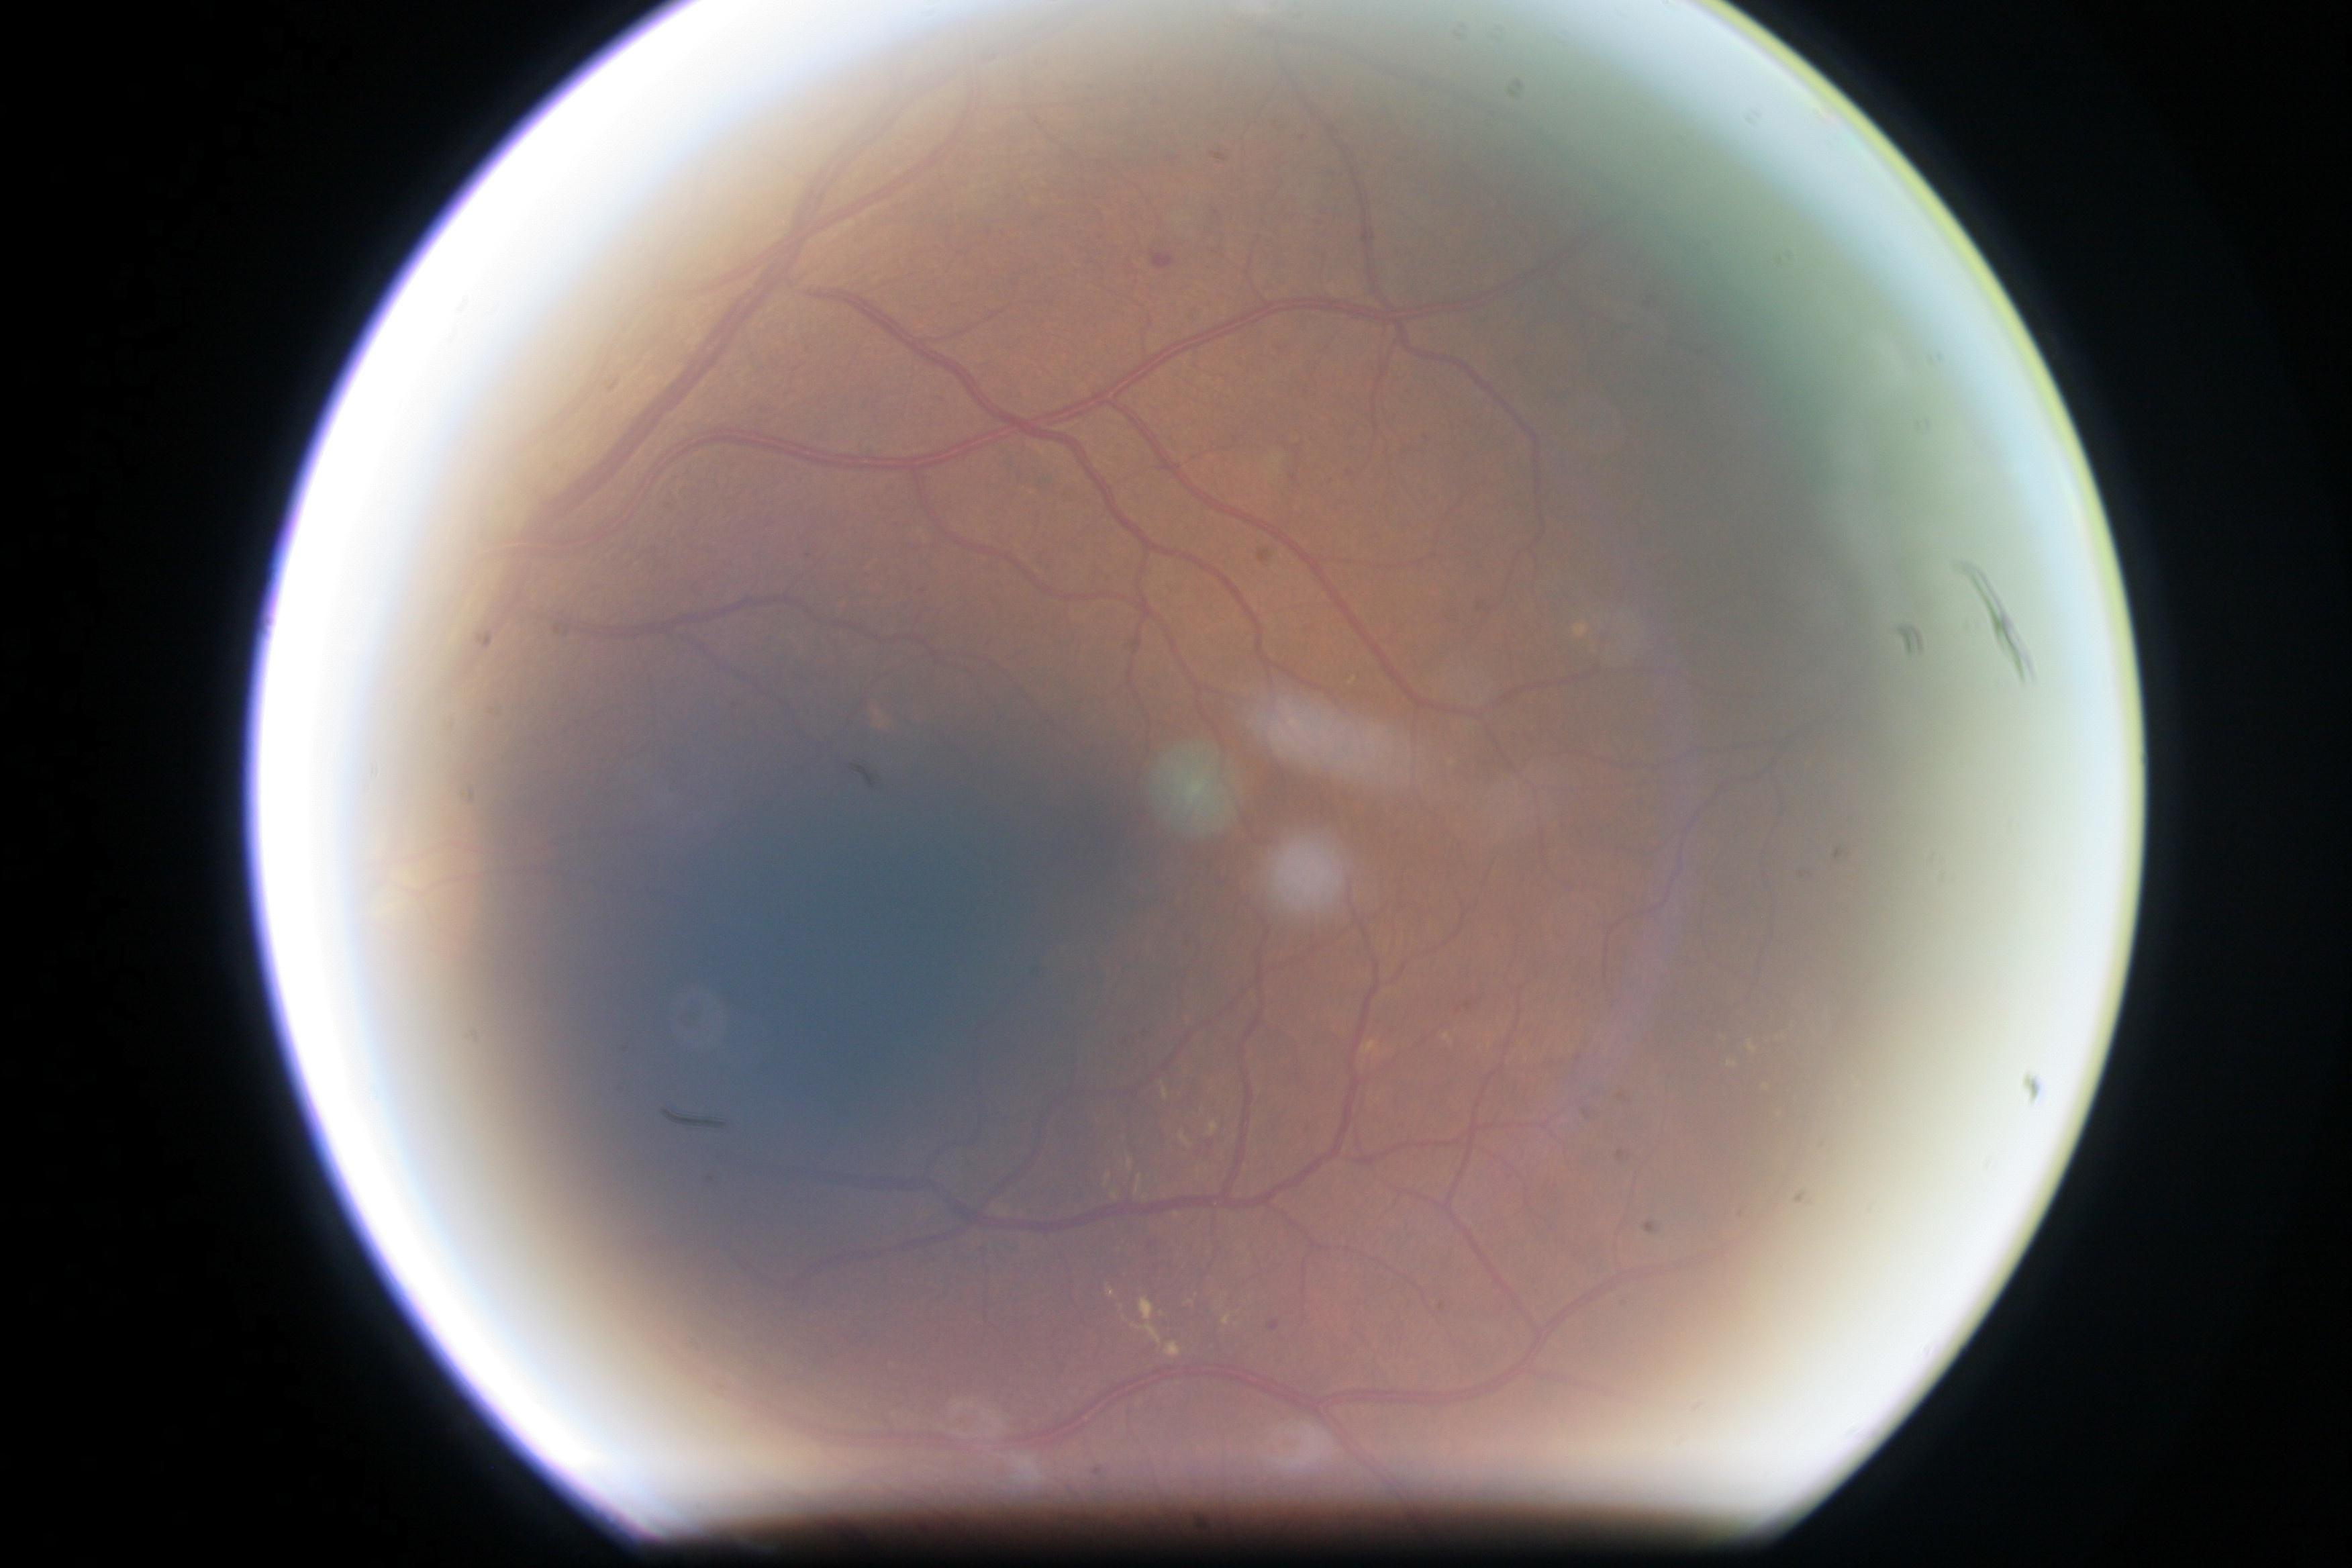macula: (628, 726, 1164, 1246)
